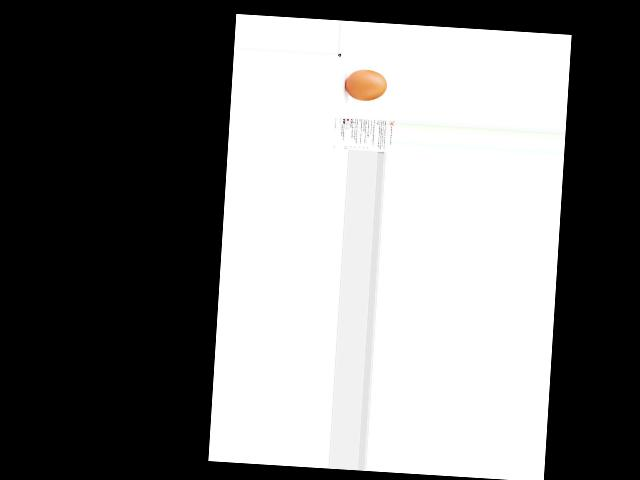egg: (344, 68, 387, 102)
